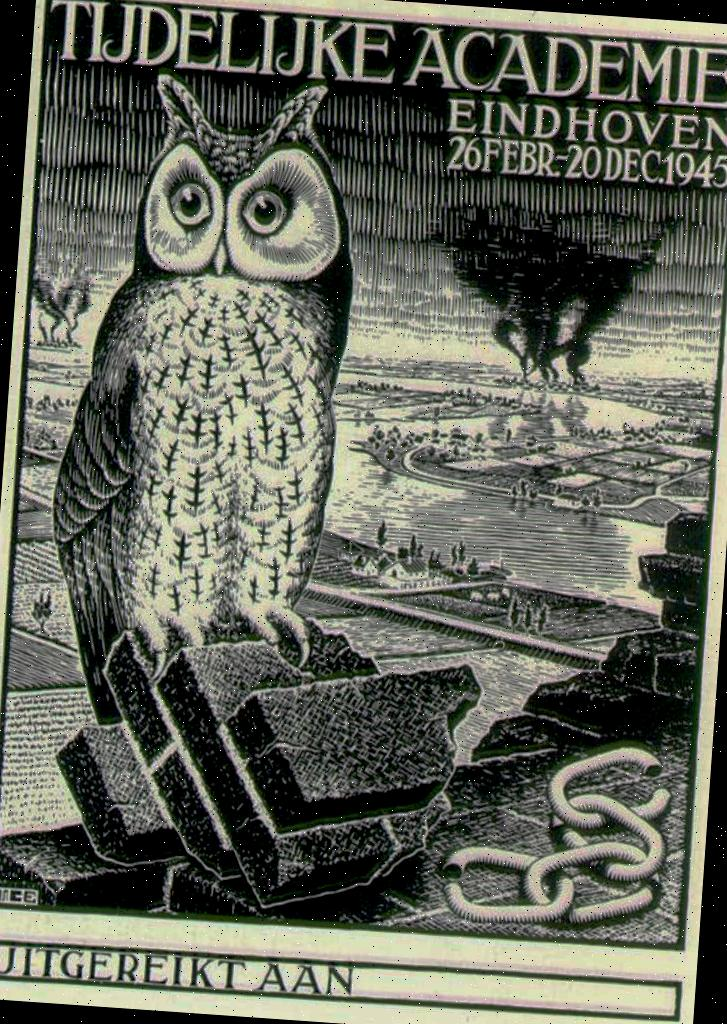Owl: (36, 64, 374, 728)
